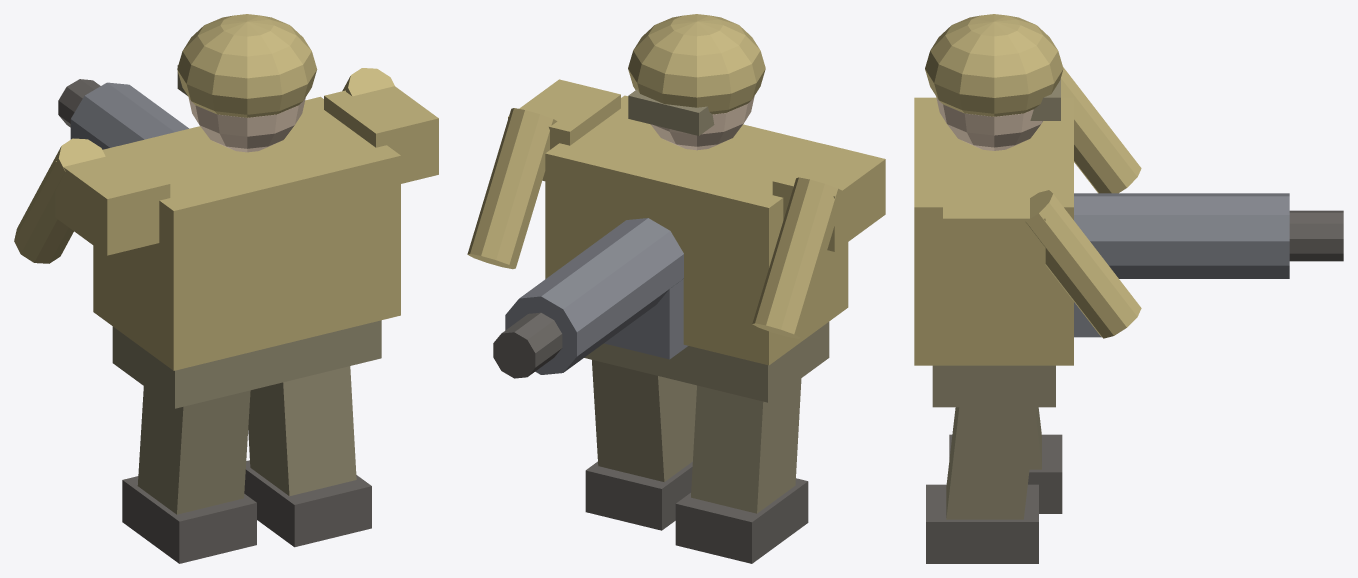
File: dm_railhero.glb
3 renders of one model, left to right at view 1: azimuth 30°, elevation 25°; view 2: azimuth 150°, elevation 25°; view 3: azimuth 270°, elevation 25°, orthographic.
Visible parts, largest first — view 1: soldier; view 2: soldier; view 3: soldier.
Part boxes in pixels (x1,y1,x2,y2): soldier: [14, 14, 438, 563]; soldier: [467, 14, 885, 563]; soldier: [914, 14, 1343, 563].
Bounding box in the file's own units: 0.7391 × 1.07 × 0.8352.
